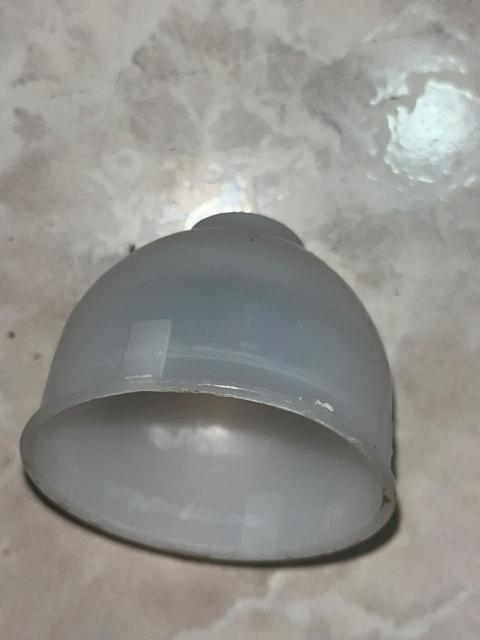HDPE: (22, 166, 429, 582)
